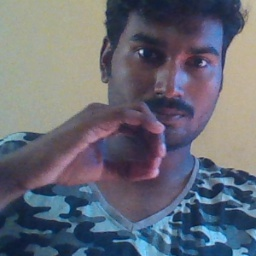O: (36, 94, 172, 192)
